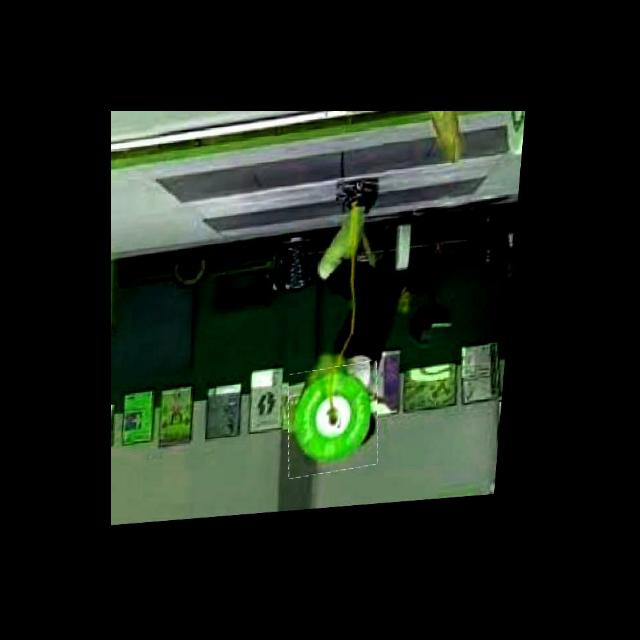barbell: (288, 366, 387, 481)
